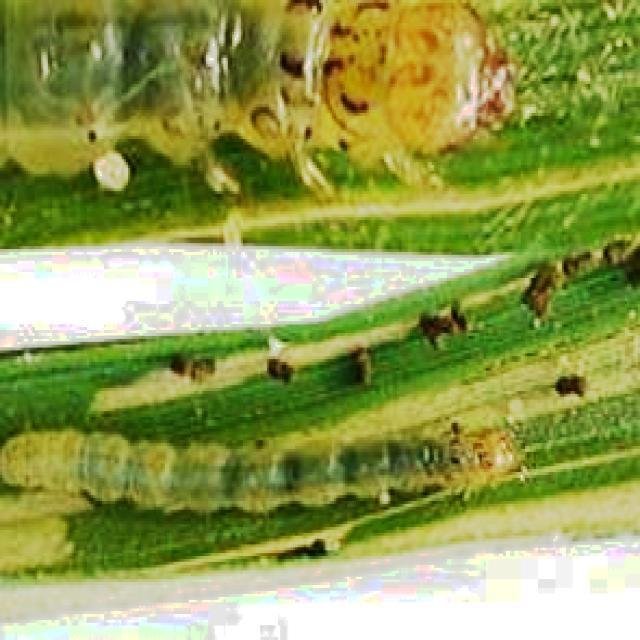leaf-folder: (0, 0, 514, 207), (3, 419, 523, 542)
